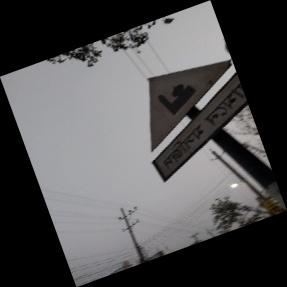Mosque in front: (148, 61, 250, 187)
